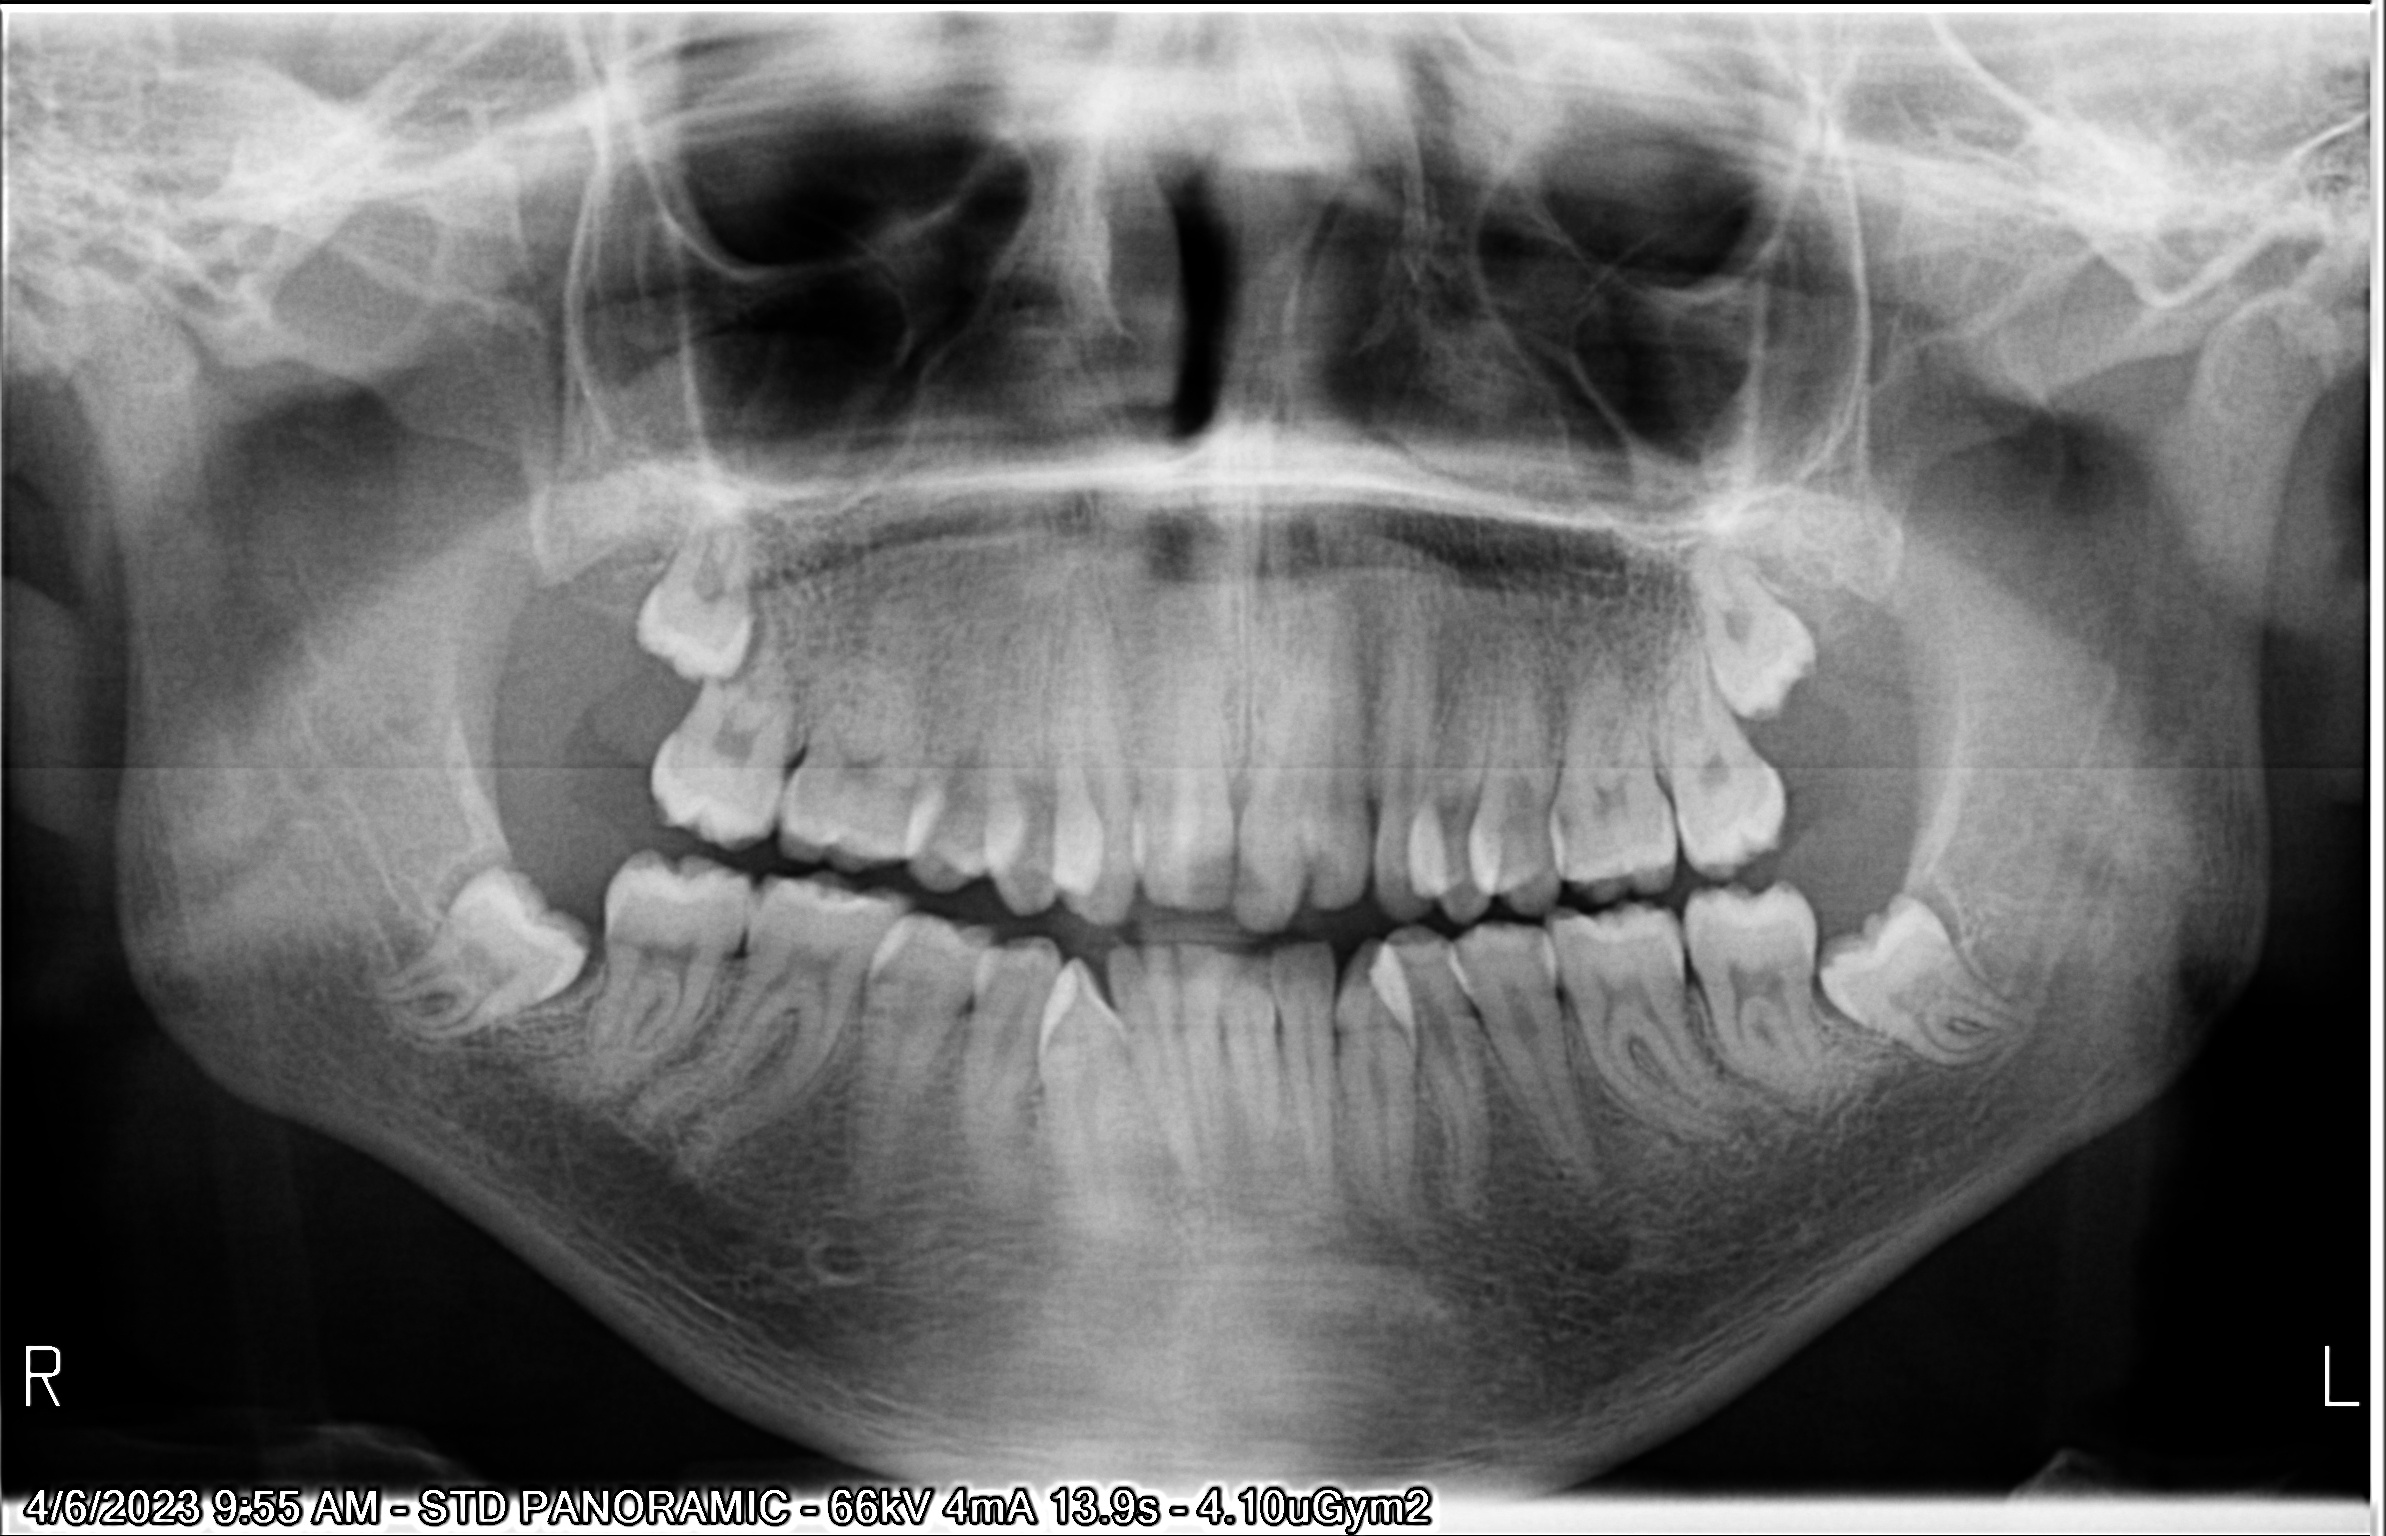CAR: (1550, 804, 1581, 861), (751, 873, 777, 908)
IMT: (374, 830, 586, 1077), (1828, 884, 2036, 1092), (1663, 492, 1838, 727), (623, 503, 753, 687)
